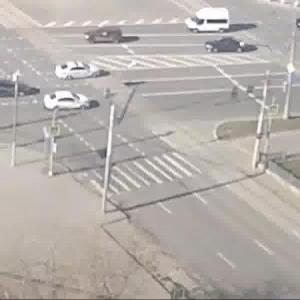car: (187, 8, 233, 34), (40, 93, 92, 111), (86, 26, 126, 48), (47, 63, 106, 76), (208, 37, 246, 54), (1, 84, 26, 99)
